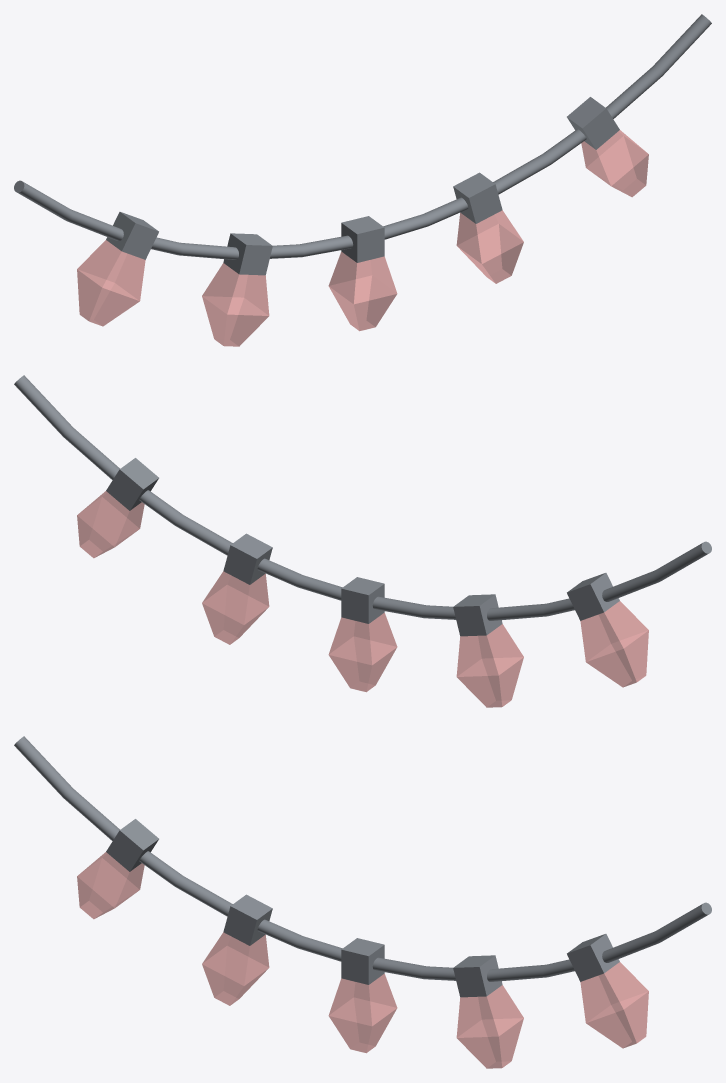
Rendered from lightsRed.glb.
The picture shows the model from 3 angles, top to bottom: view 1: azimuth 30°, elevation 25°; view 2: azimuth 150°, elevation 25°; view 3: azimuth 330°, elevation 25°; orthographic projection.
Visible parts, largest first — view 1: lightsRed(Clone); view 2: lightsRed(Clone); view 3: lightsRed(Clone).
Boxes of the visible parts, <box> form: lightsRed(Clone): <box>14,14,711,346</box>; lightsRed(Clone): <box>14,375,711,707</box>; lightsRed(Clone): <box>14,736,711,1068</box>.
Bounding box in the file's own units: 1.01 × 0.3162 × 0.0636.
